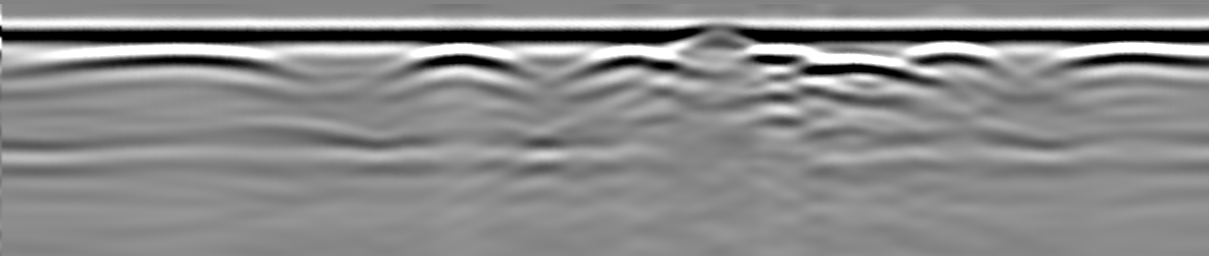pipe: (656, 24, 774, 48)
steel: (741, 45, 995, 80), (48, 44, 294, 77), (1048, 44, 1209, 70), (395, 44, 525, 75), (571, 47, 689, 73)
